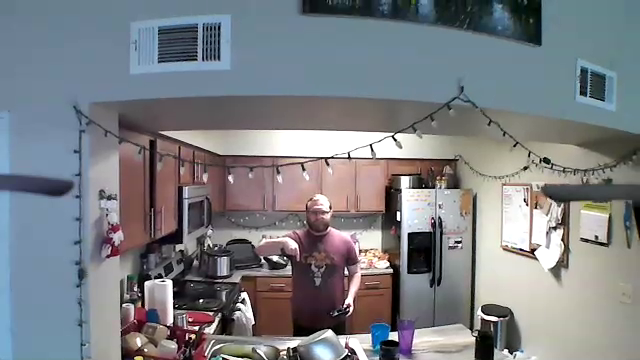down: (277, 233, 302, 265)
